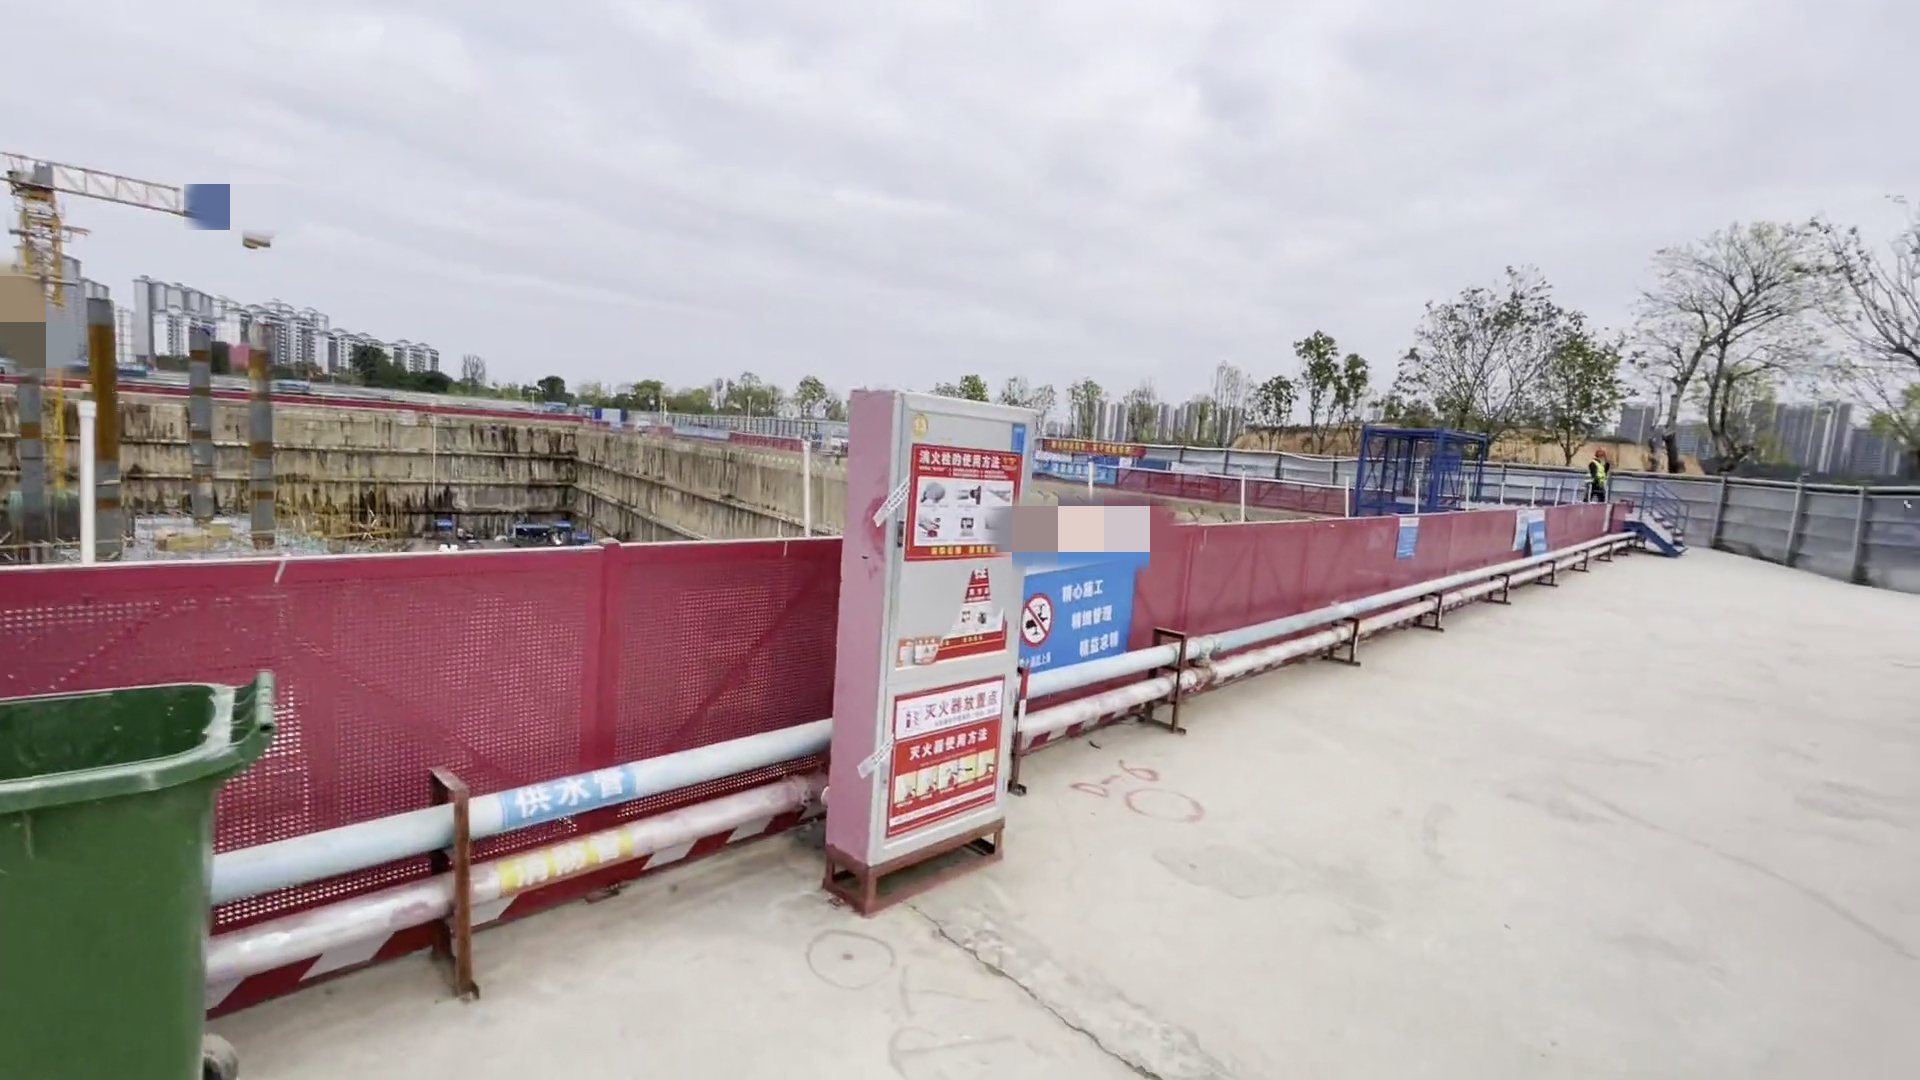fence: (1, 499, 1625, 963)
helmet: (1591, 450, 1616, 467)
person: (1571, 446, 1622, 497)
slogan: (1050, 576, 1142, 667), (1041, 431, 1146, 457), (1041, 453, 1117, 483)
vest: (1591, 469, 1606, 482)
